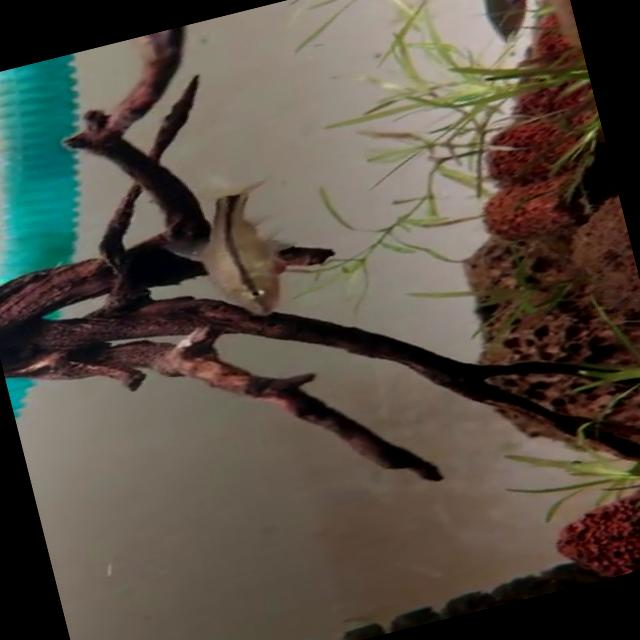Cakil Baligi: (168, 158, 302, 331)
